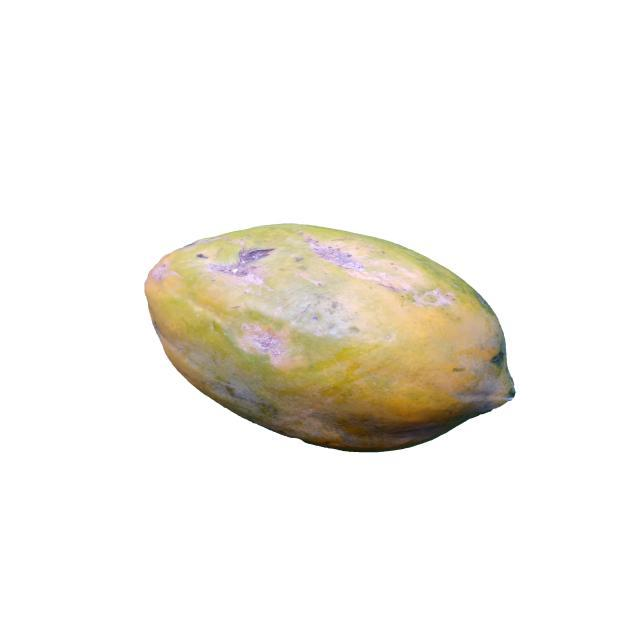Pepaya rippen: (127, 205, 525, 480)
